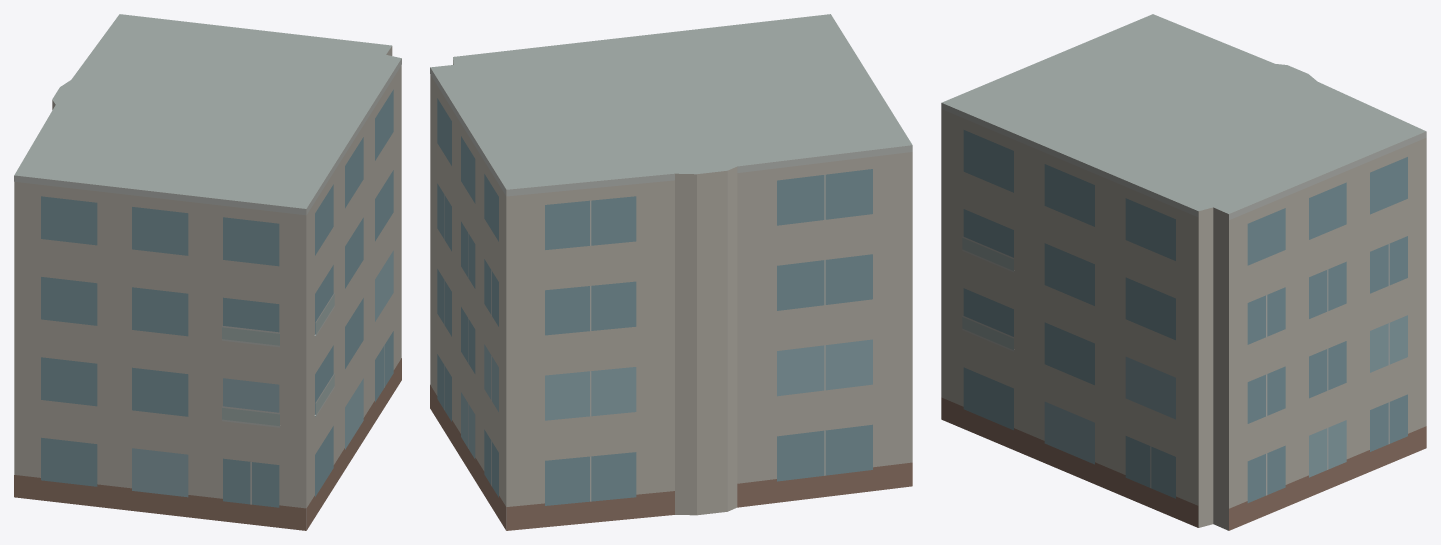
File: survey-upis-32639001.glb
3 renders of one model, left to right at view 1: azimuth 30°, elevation 25°; view 2: azimuth 150°, elevation 25°; view 3: azimuth 270°, elevation 25°, orthographic. The views are drawn at different scales.
Parts seen in each view (by area): view 1: survey-upis-32639001.tmp; view 2: survey-upis-32639001.tmp; view 3: survey-upis-32639001.tmp.
Part boxes in pixels (x1=…): survey-upis-32639001.tmp: x1=14, y1=14, x2=401, y2=530; survey-upis-32639001.tmp: x1=430, y1=14, x2=912, y2=530; survey-upis-32639001.tmp: x1=941, y1=14, x2=1426, y2=530.
Bounding box in the file's own units: 16.81 × 12.4 × 17.22.
